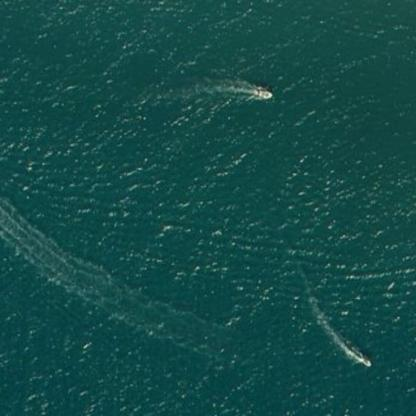ship: (246, 79, 276, 104), (350, 349, 376, 373)
